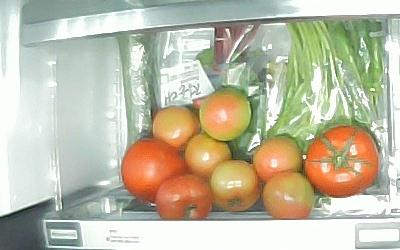tomato: (303, 125, 381, 198), (120, 139, 185, 205), (197, 86, 256, 142), (212, 160, 262, 212), (157, 174, 213, 220), (263, 172, 316, 220), (253, 134, 302, 181), (185, 134, 233, 178), (152, 106, 200, 149)
